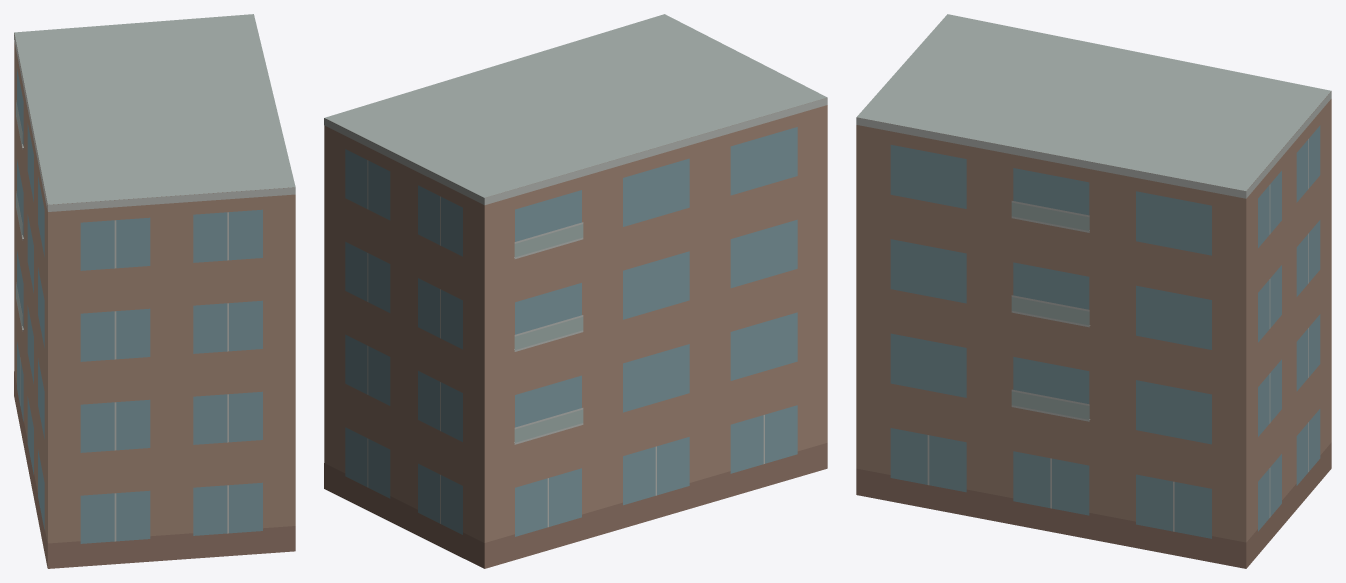
Rendered from survey-upis-32477246.glb.
3 renders of one model, left to right at view 1: azimuth 30°, elevation 25°; view 2: azimuth 150°, elevation 25°; view 3: azimuth 270°, elevation 25°, orthographic. The views are drawn at different scales.
Visible parts, largest first — view 1: survey-upis-32477246.tmp; view 2: survey-upis-32477246.tmp; view 3: survey-upis-32477246.tmp.
Part boxes in pixels (box(x1,y1,x2,y2)): survey-upis-32477246.tmp: box(14, 14, 295, 568); survey-upis-32477246.tmp: box(324, 14, 827, 568); survey-upis-32477246.tmp: box(856, 14, 1331, 568).
Size of the model in its own units: 12.29 by 12.2 by 13.92.
